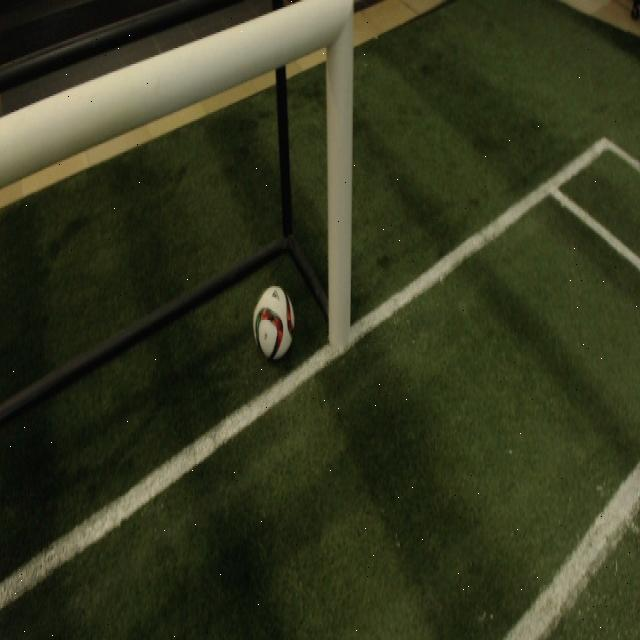ball: (252, 284, 296, 364)
goalpost: (328, 7, 352, 347)
